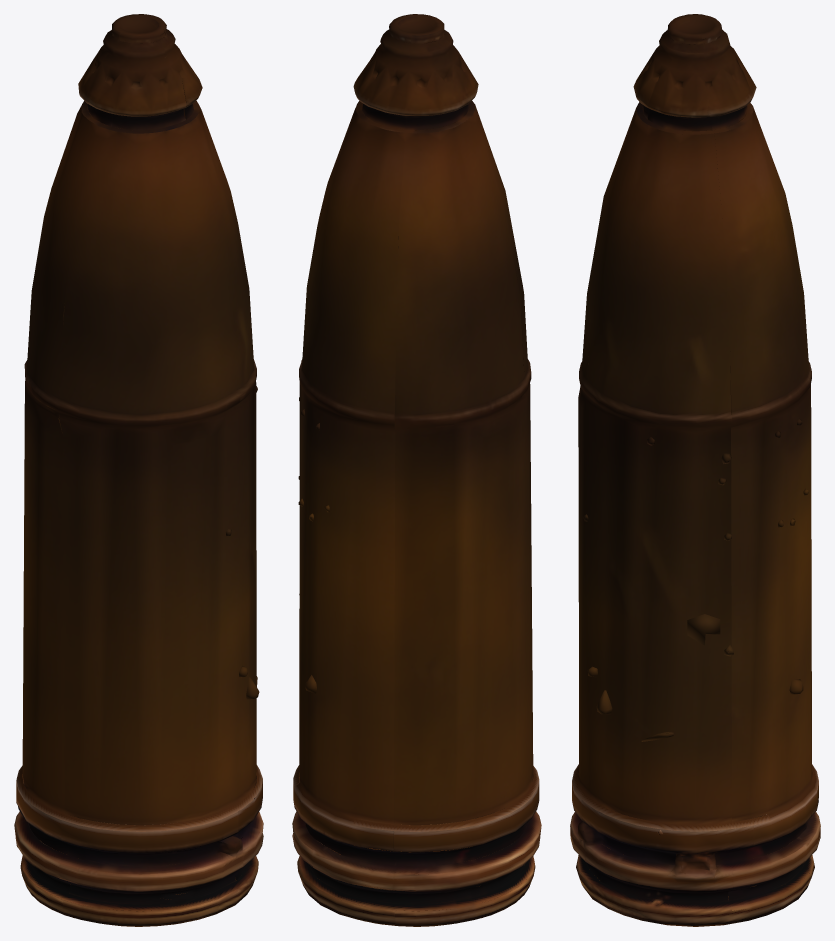
File: bomb3.glb
The picture shows the model from 3 angles, left to right: view 1: azimuth 30°, elevation 25°; view 2: azimuth 150°, elevation 25°; view 3: azimuth 270°, elevation 25°; orthographic projection.
Visible parts, largest first — view 1: material; view 2: material; view 3: material.
Boxes of the visible parts, <box> form: material: <box>14,14,263,926</box>; material: <box>292,14,541,926</box>; material: <box>570,14,820,926</box>.
Size of the model in its own units: 0.5063 by 1.9 by 0.5024.
1 material, 1 textured.
